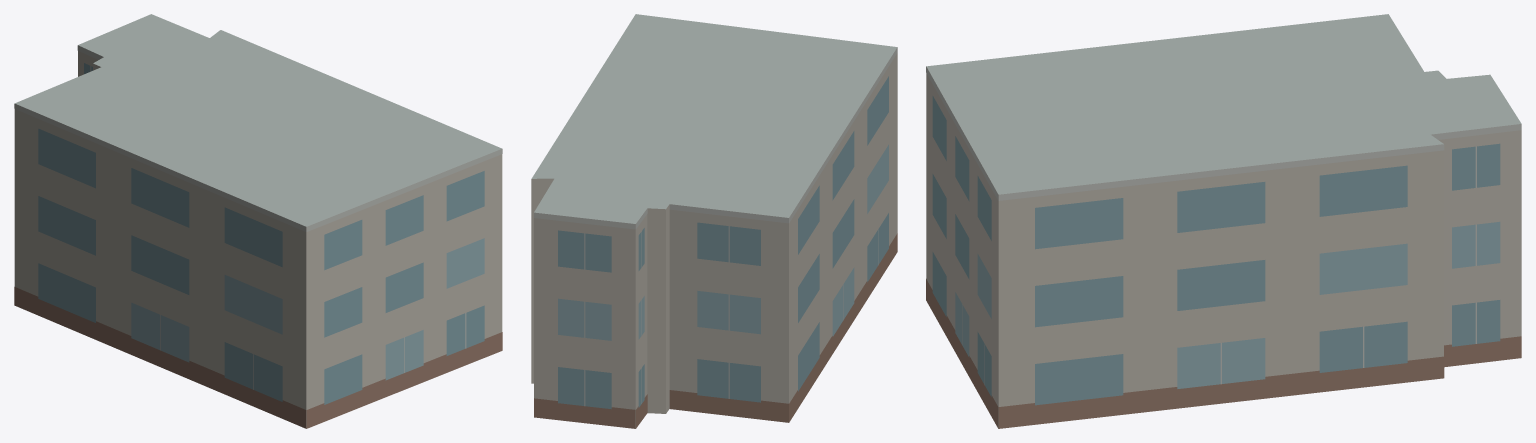
File: survey-upis-32717884.glb
3 views of the same model, side by side, from view 1: azimuth 30°, elevation 25°; view 2: azimuth 150°, elevation 25°; view 3: azimuth 270°, elevation 25° (orthographic). The views are drawn at different scales.
Visible parts, largest first — view 1: survey-upis-32717884.tmp; view 2: survey-upis-32717884.tmp; view 3: survey-upis-32717884.tmp.
Part boxes in pixels (x1,y1,x2,y2): survey-upis-32717884.tmp: (14,14,502,428); survey-upis-32717884.tmp: (531,14,897,428); survey-upis-32717884.tmp: (926,14,1521,428).
Size of the model in its own units: 15.16 by 9.15 by 21.1.
